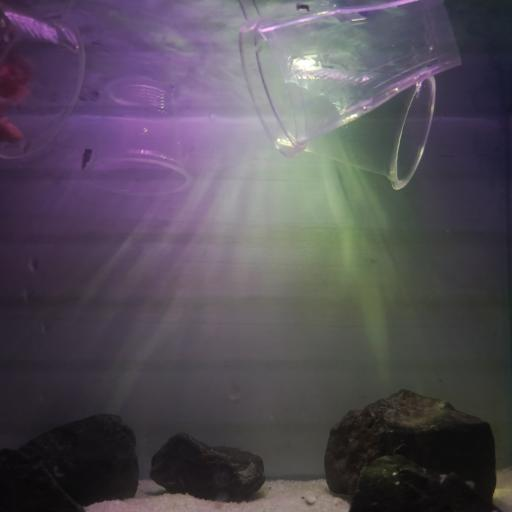plastic_cup: (239, 0, 463, 160), (277, 70, 437, 193), (81, 82, 194, 199), (0, 9, 86, 161)
